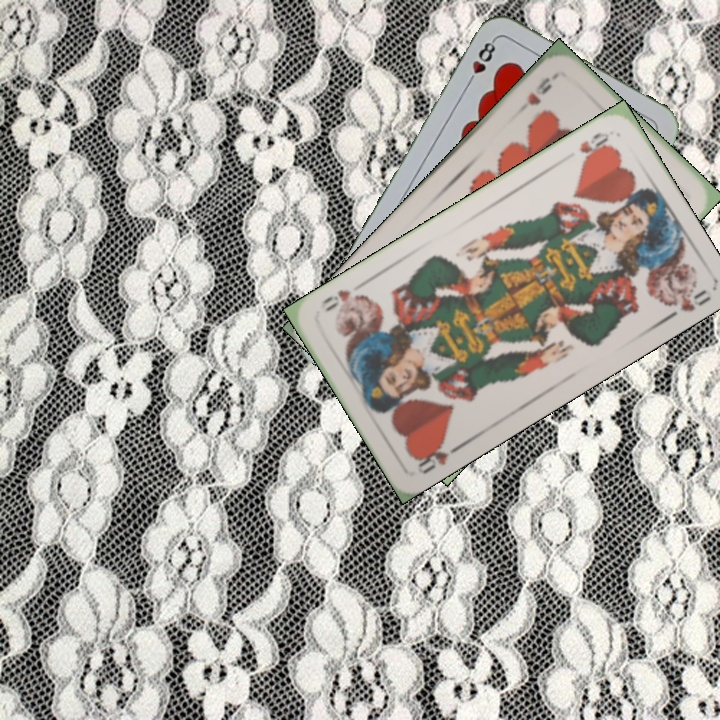H8: (463, 35, 499, 89)
H9: (523, 70, 560, 109)
HO: (411, 437, 466, 477), (575, 128, 614, 165)
